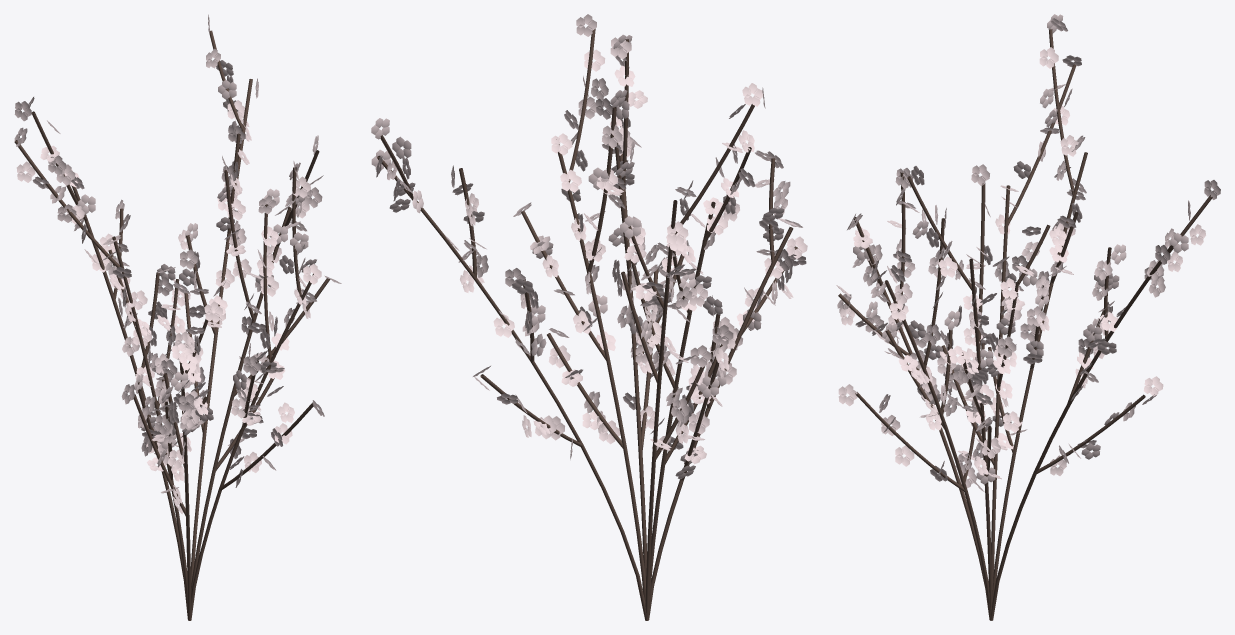
File: blossom-2.glb
3 renders of one model, left to right at view 1: azimuth 30°, elevation 25°; view 2: azimuth 150°, elevation 25°; view 3: azimuth 270°, elevation 25°, orthographic. The views are drawn at different scales.
Parts seen in each view (by area): view 1: blossom-leaves, blossom-stems; view 2: blossom-leaves, blossom-stems; view 3: blossom-leaves, blossom-stems.
Part boxes in pixels (x1=…): blossom-leaves: x1=14, y1=14, x2=341, y2=514; blossom-stems: x1=14, y1=30, x2=330, y2=620; blossom-leaves: x1=371, y1=14, x2=807, y2=479; blossom-stems: x1=377, y1=28, x2=797, y2=620; blossom-leaves: x1=836, y1=14, x2=1220, y2=491; blossom-stems: x1=838, y1=29, x2=1212, y2=620.
Bounding box in the file's own units: 0.4891 × 0.8346 × 0.5384.
